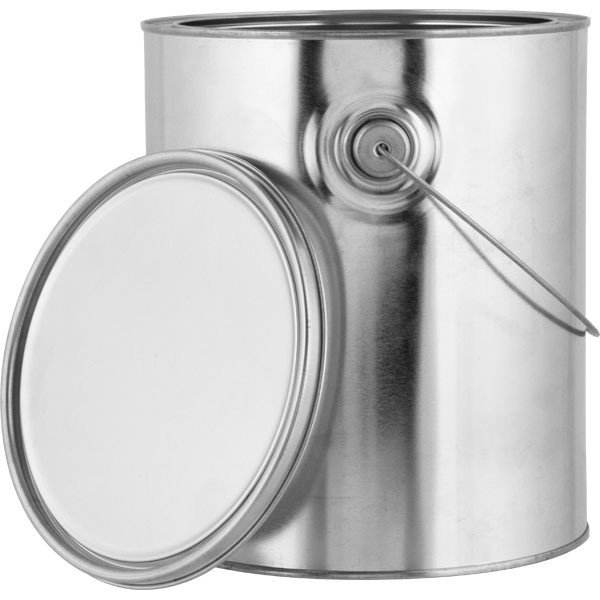metal: (138, 8, 595, 581), (1, 147, 329, 587)
